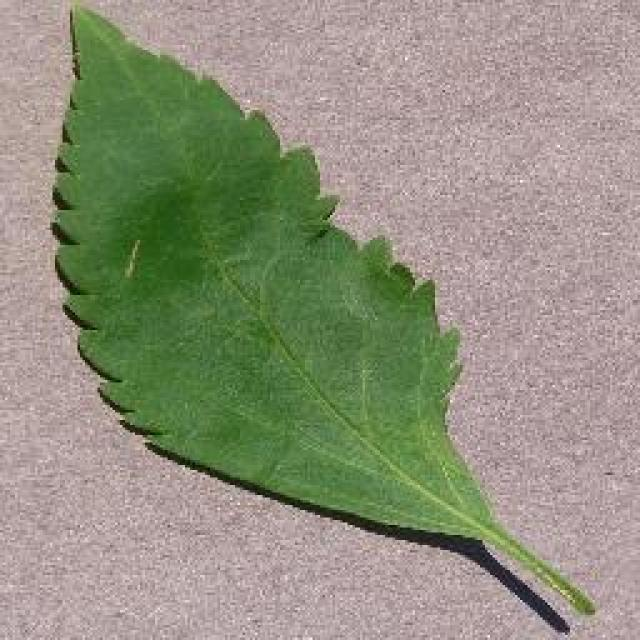Cherry___healthy: (38, 2, 602, 638)
